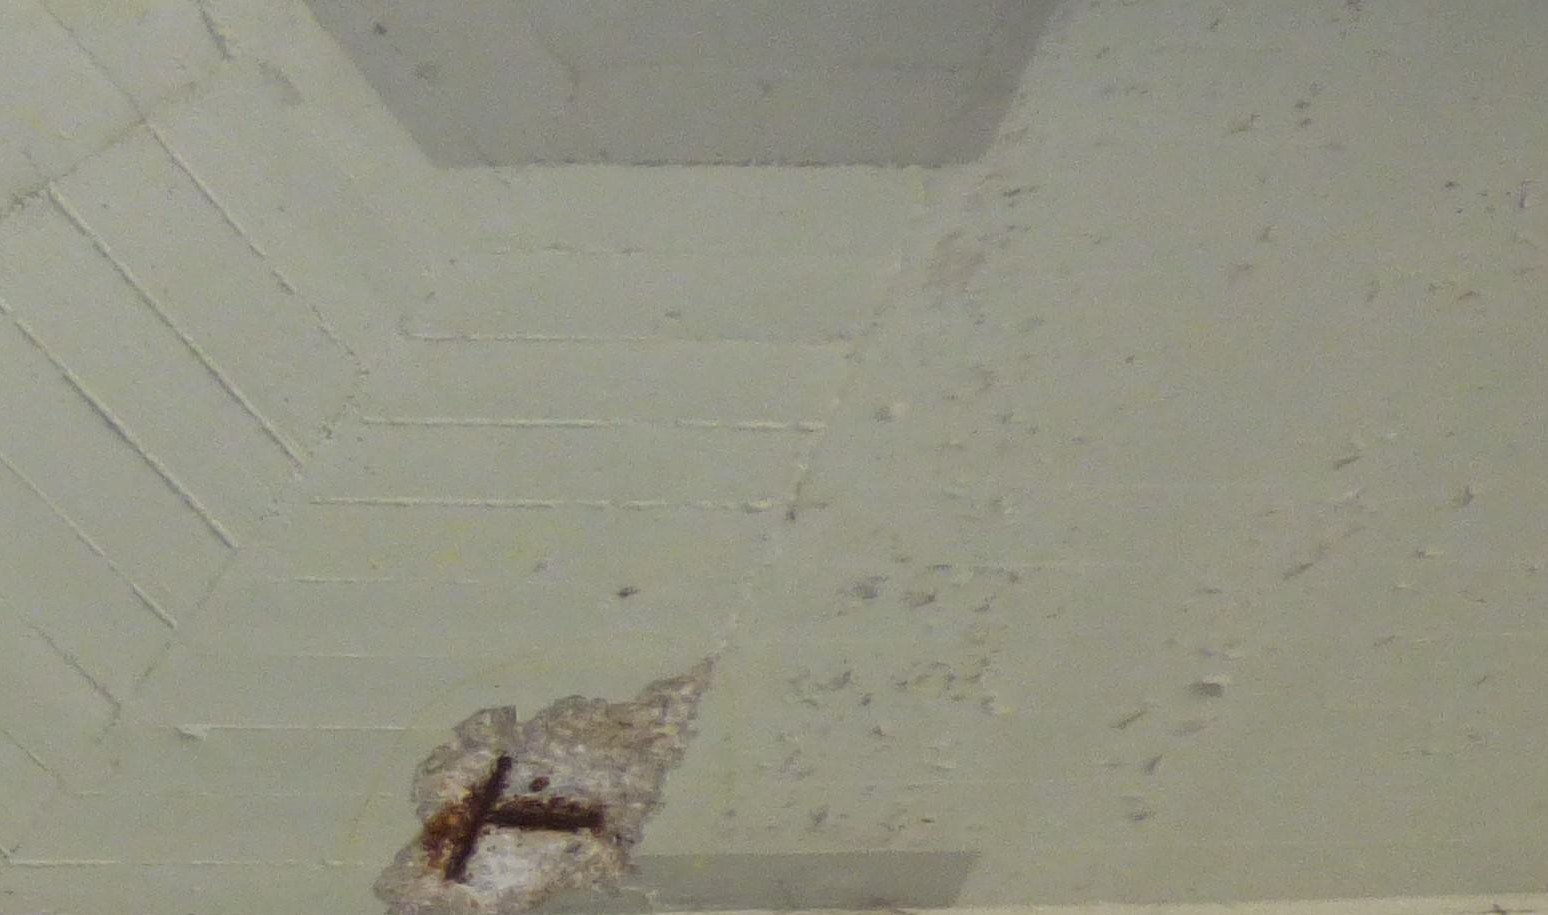Corrosion: (420, 784, 478, 869), (527, 776, 551, 793)
Exposed reinforcement: (443, 754, 513, 879), (488, 814, 597, 829)
Spalling: (370, 654, 712, 915)
